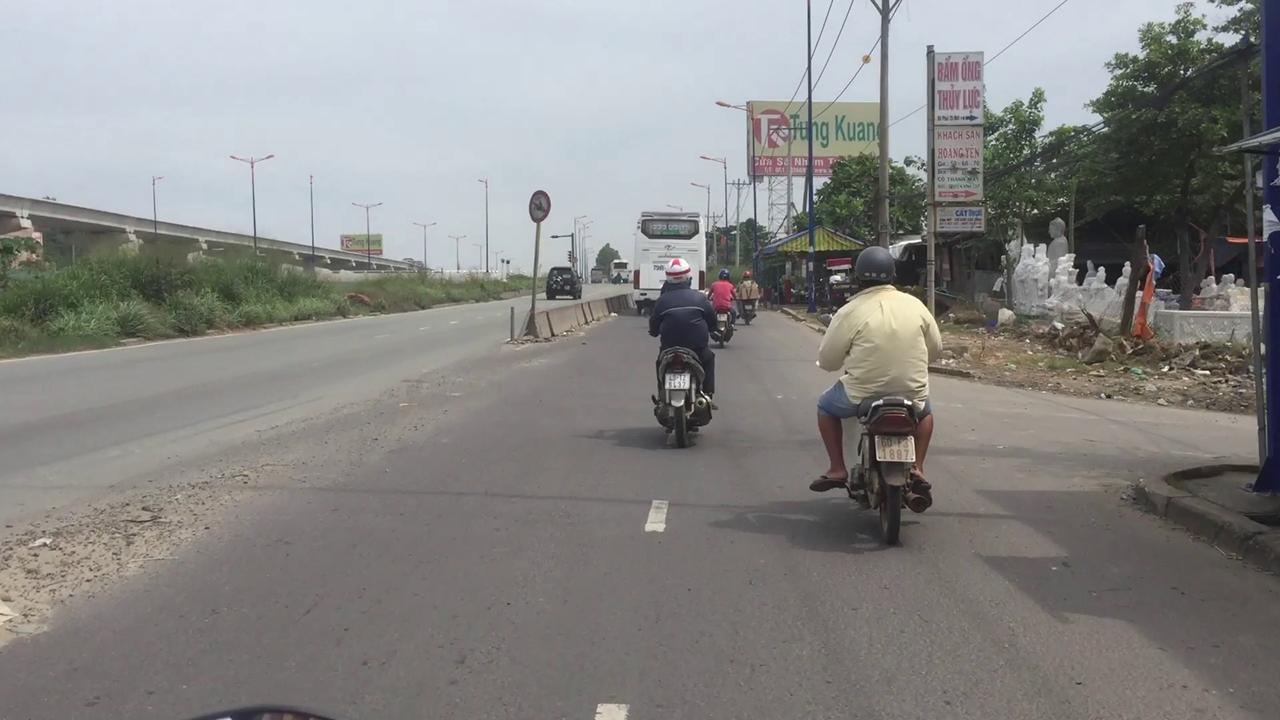P.103b: (528, 194, 550, 221)
